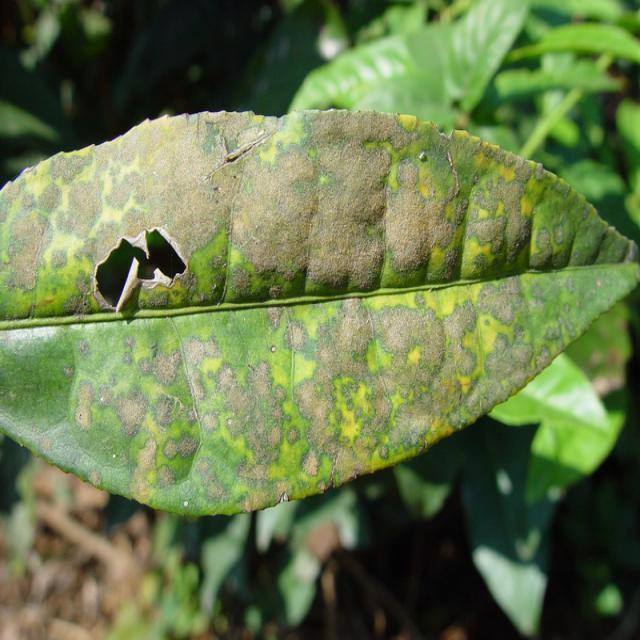Tea exobasidium blight: (56, 127, 571, 435)
